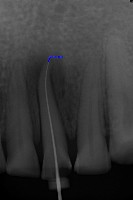Furcation Involvement: (23, 42, 66, 102)
